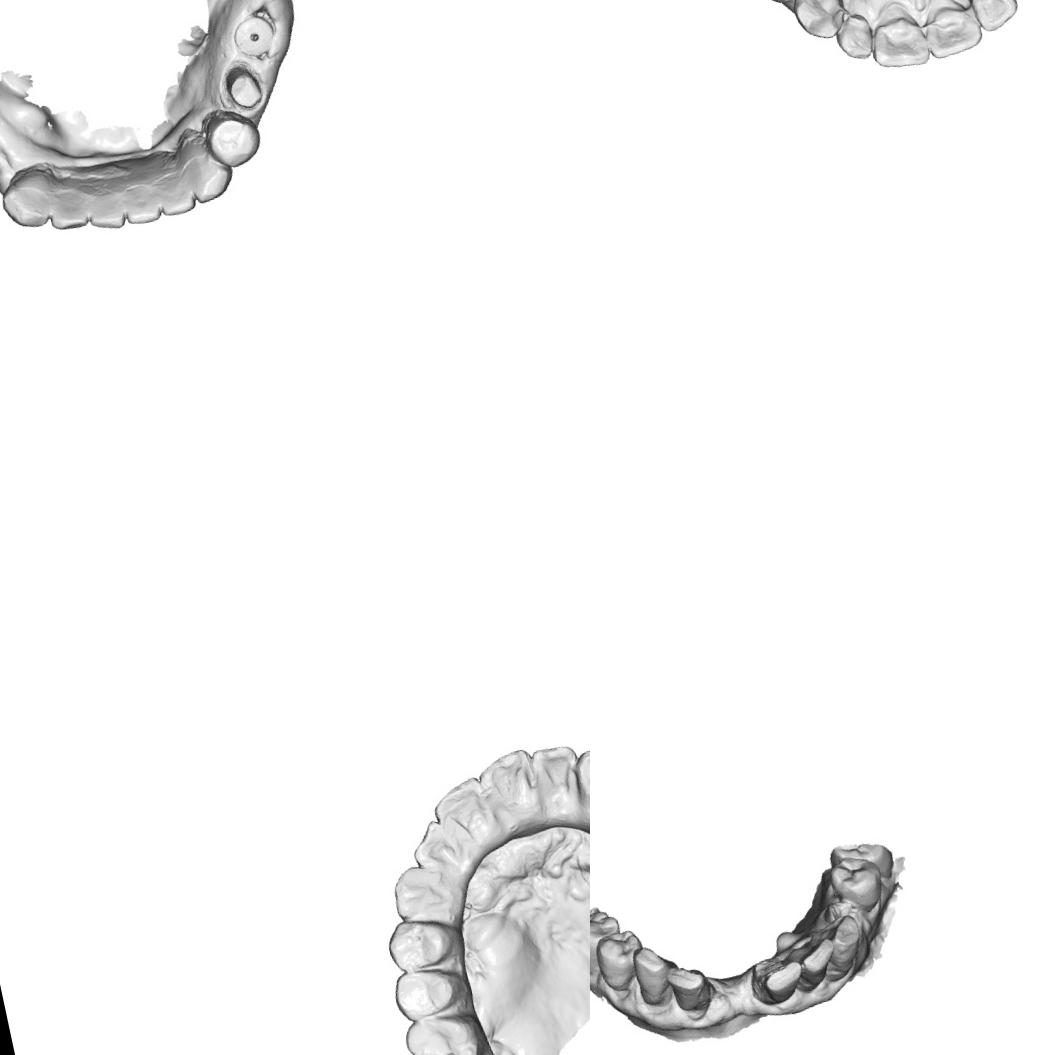canine: (386, 852, 480, 936), (809, 912, 871, 984), (627, 938, 684, 1010), (180, 144, 239, 206), (0, 171, 56, 236), (780, 0, 854, 48), (568, 736, 590, 815)
crown: (218, 59, 268, 117)
implant: (226, 8, 282, 62)
incisor: (476, 744, 552, 837), (426, 771, 498, 852), (863, 0, 938, 76), (404, 810, 475, 889), (918, 0, 991, 62), (527, 737, 586, 810), (782, 935, 842, 997), (744, 952, 806, 1009), (662, 955, 716, 1018), (115, 169, 168, 229), (80, 176, 130, 238), (40, 181, 93, 237), (830, 7, 880, 65), (153, 165, 202, 222), (965, 0, 1023, 36)
molar: (399, 1007, 489, 1055)
premolar: (387, 958, 480, 1025), (380, 908, 468, 978), (198, 100, 266, 175), (590, 927, 650, 998), (826, 850, 890, 916), (826, 832, 898, 890), (590, 903, 630, 978)
